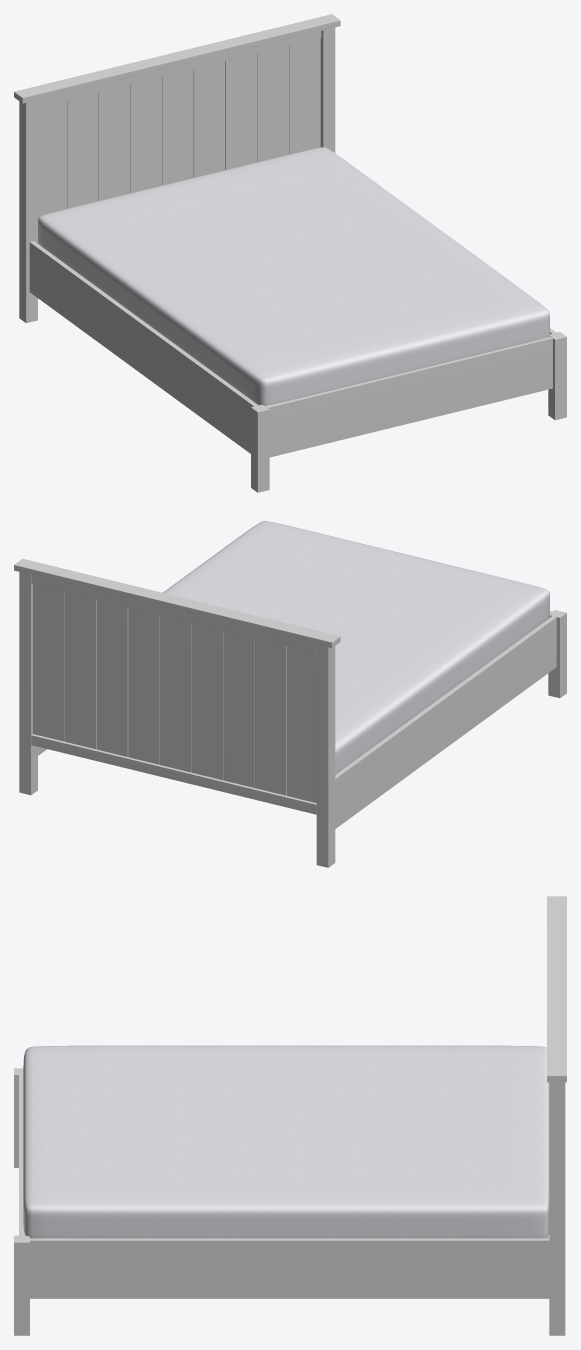
Rendered from bed_06.fbx.
3 views of the same model, one above another, from view 1: azimuth 30°, elevation 25°; view 2: azimuth 150°, elevation 25°; view 3: azimuth 270°, elevation 25° (orthographic). The views are drawn at different scales.
Parts seen in each view (by area): view 1: bed_06.001; view 2: bed_06.001; view 3: bed_06.001.
Boxes of the visible parts, bbox=[...] form: bed_06.001: bbox=[14, 14, 566, 492]; bed_06.001: bbox=[14, 521, 566, 867]; bed_06.001: bbox=[14, 896, 566, 1335].
Size of the model in its own units: 163 by 111 by 213.
1 material, 1 textured.
